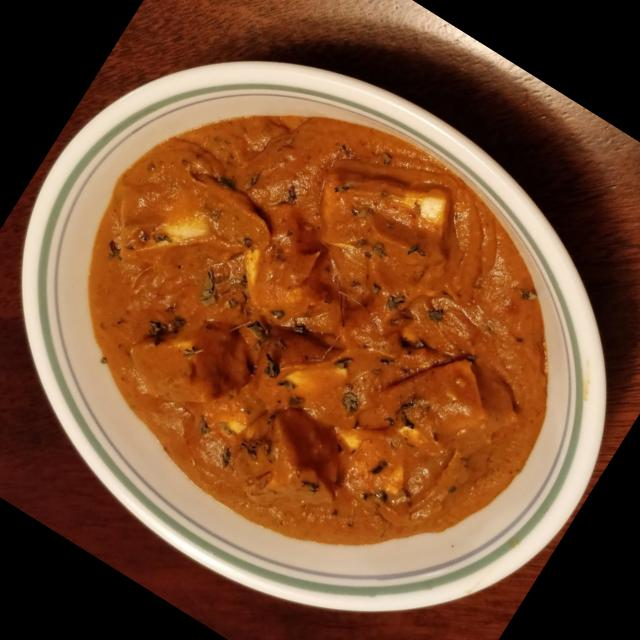ShahiPaneer: (12, 39, 630, 618)
